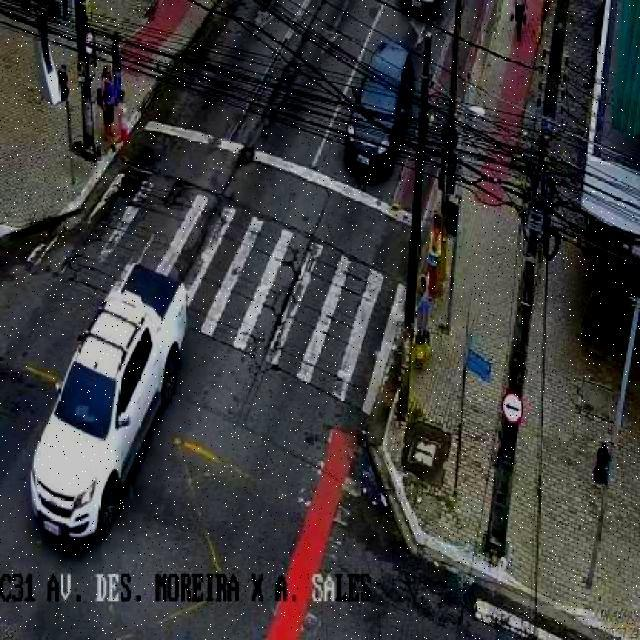Car: (23, 240, 204, 575), (332, 34, 430, 202)
